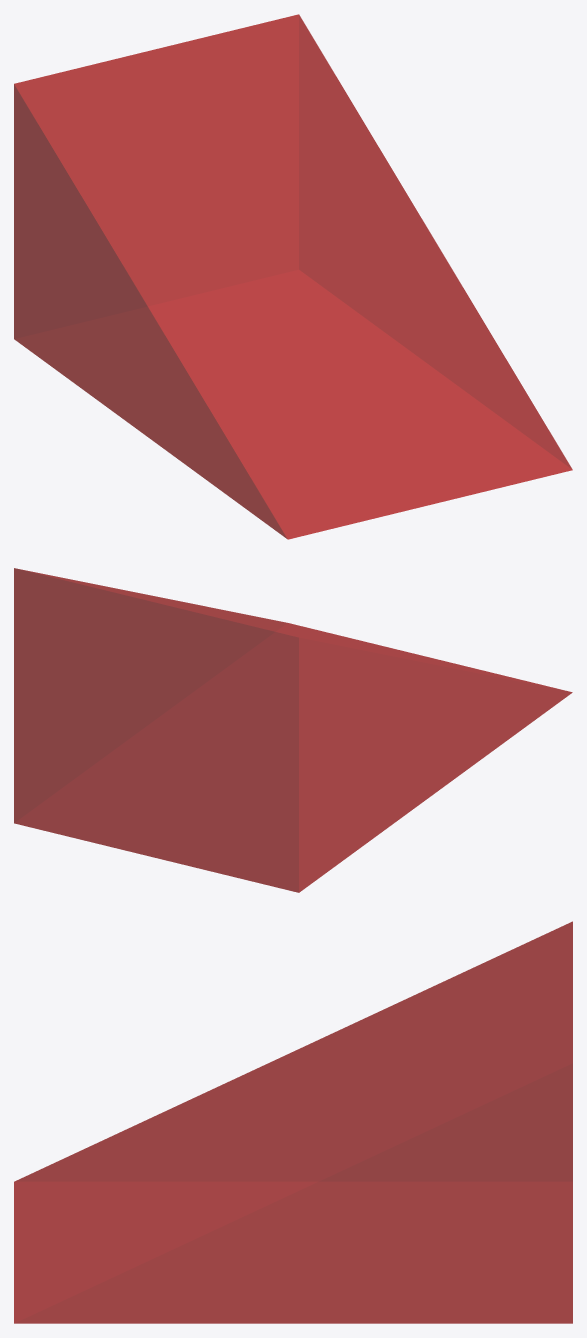
Rendered from SM_Bld_Ruin_Stairs_Straight_01_Collision.fbx.
3 renders of one model, top to bottom at view 1: azimuth 30°, elevation 25°; view 2: azimuth 150°, elevation 25°; view 3: azimuth 270°, elevation 25°, orthographic. The views are drawn at different scales.
Visible parts, largest first — view 1: SM_Bld_Ruin_Stairs_Straight_01_Collision; view 2: SM_Bld_Ruin_Stairs_Straight_01_Collision; view 3: SM_Bld_Ruin_Stairs_Straight_01_Collision.
Part boxes in pixels (box(x1,y1,x2,y2)): SM_Bld_Ruin_Stairs_Straight_01_Collision: box(14, 14, 572, 539); SM_Bld_Ruin_Stairs_Straight_01_Collision: box(14, 568, 572, 892); SM_Bld_Ruin_Stairs_Straight_01_Collision: box(14, 921, 572, 1323).
Bounding box in the file's own units: 500 × 428 × 831.
